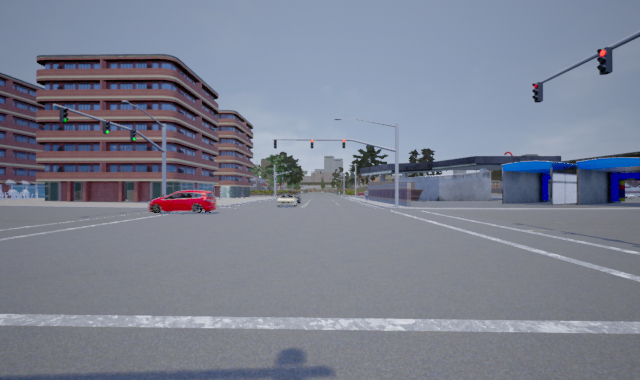traffic_light: (595, 46, 613, 76), (531, 81, 544, 102), (60, 106, 70, 126), (129, 126, 138, 146), (101, 118, 110, 135), (341, 138, 347, 150), (310, 138, 315, 150)
vehicle: (148, 189, 216, 212), (276, 194, 298, 208)
